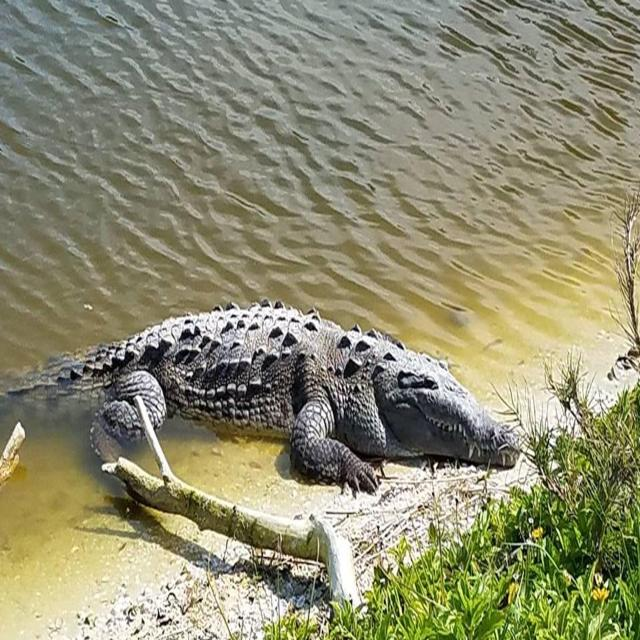crocodile: (0, 270, 546, 504)
